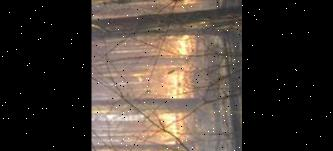fire: (150, 34, 201, 151)
